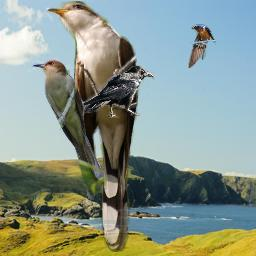Crow: (78, 65, 154, 120)
Cuckoo: (46, 1, 140, 252), (32, 59, 107, 200)
Swallow: (188, 24, 216, 68)
